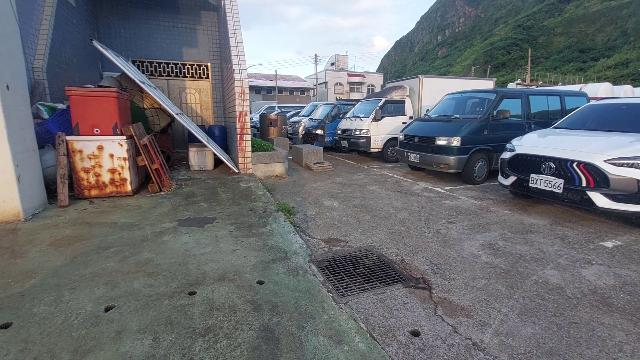pollute: (67, 72, 173, 198), (31, 100, 72, 145), (196, 124, 227, 153), (55, 133, 67, 206), (188, 143, 217, 173), (39, 147, 56, 183)
